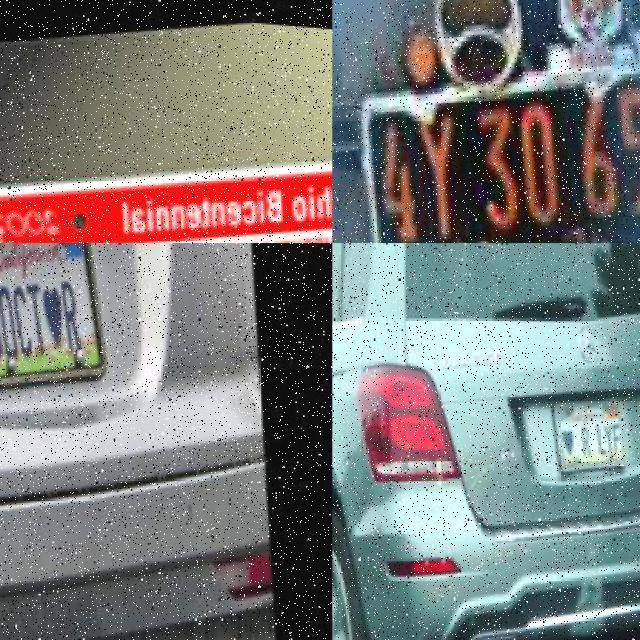LicensePlate: (357, 51, 640, 244), (0, 243, 117, 382), (555, 382, 638, 470)
